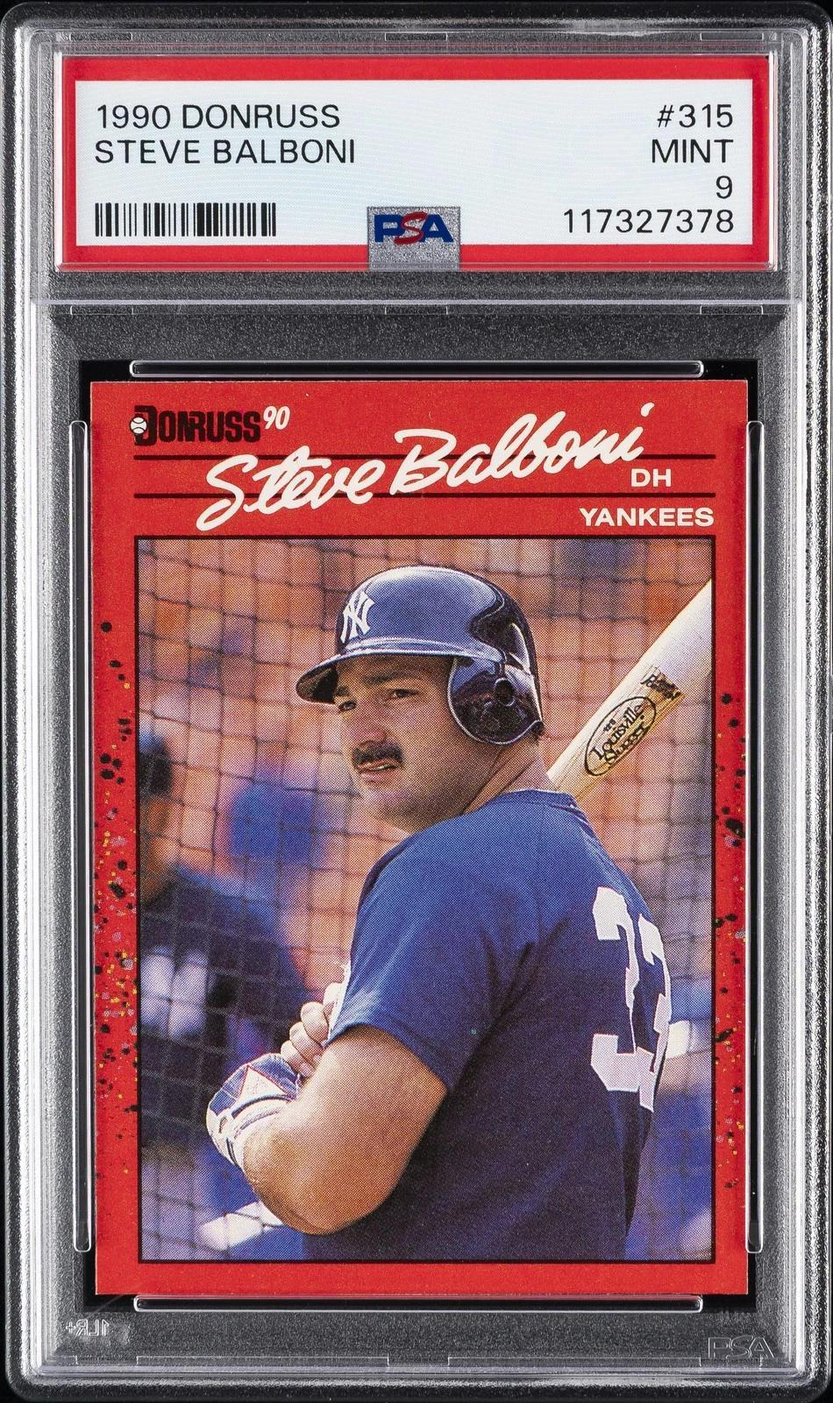card-2UtV: (89, 379, 749, 1295)
